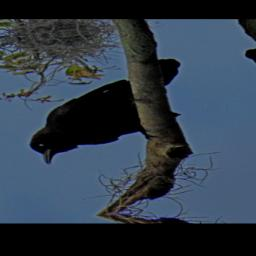Crow: (0, 57, 225, 166)
